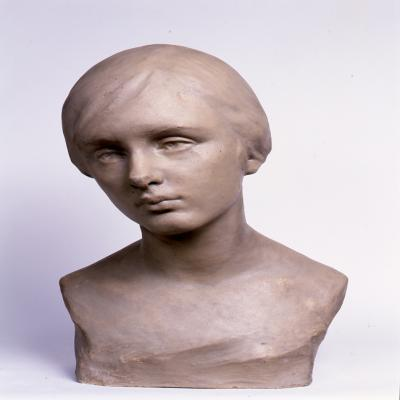sculpture: (59, 44, 348, 390)
